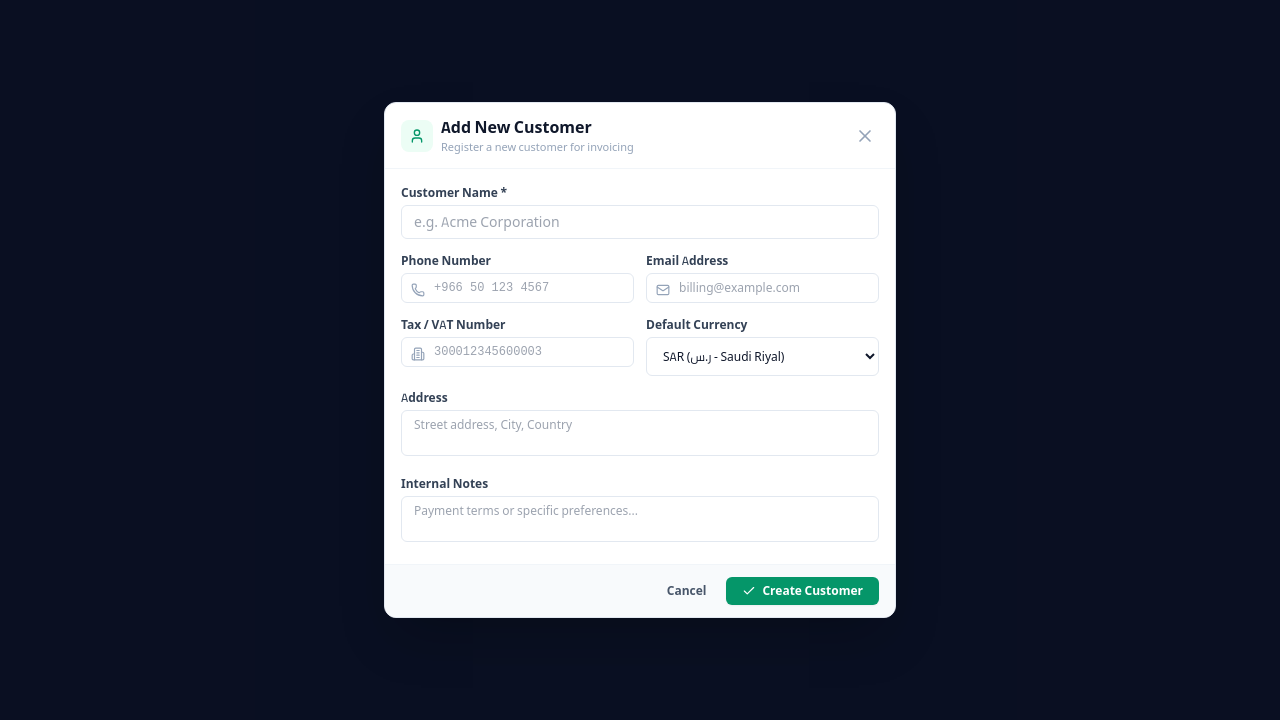
it: Customer Directory & Ledger Component Suite › 2. CustomerModal Component › opens modal, validates required name, and prevents empty submission
Check: the heading "Add New Customer" is shown, box [441,112,592,142]
Submit without name
Step 1. Click the button "Create Customer" → (803, 591), box [726,577,879,605]
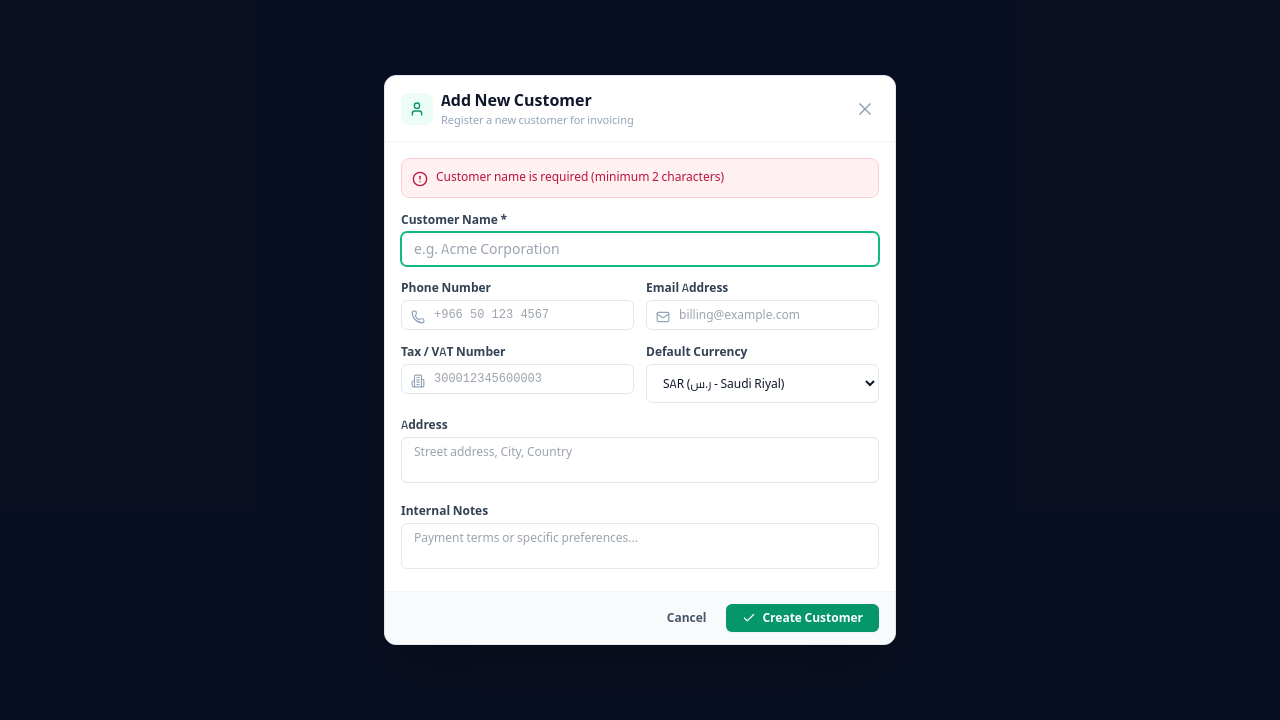
Check: the message "Customer name is required (minimum 2 characters)" is shown, box [401,158,879,198]
